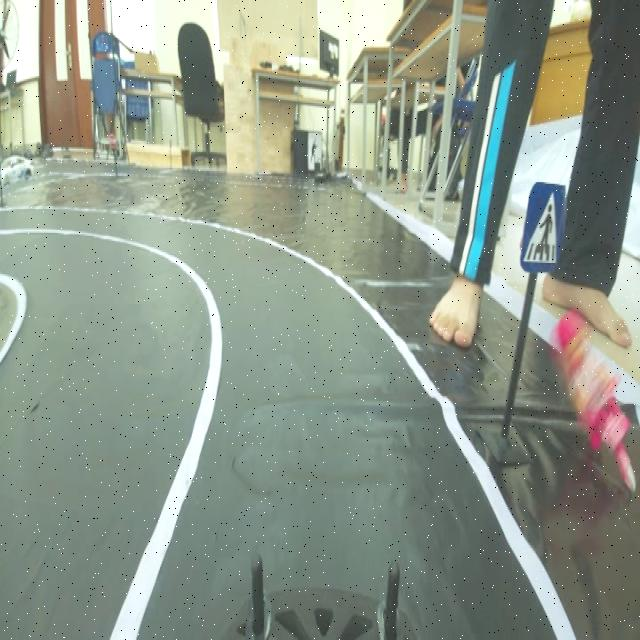crosswalk: (520, 170, 570, 274)
